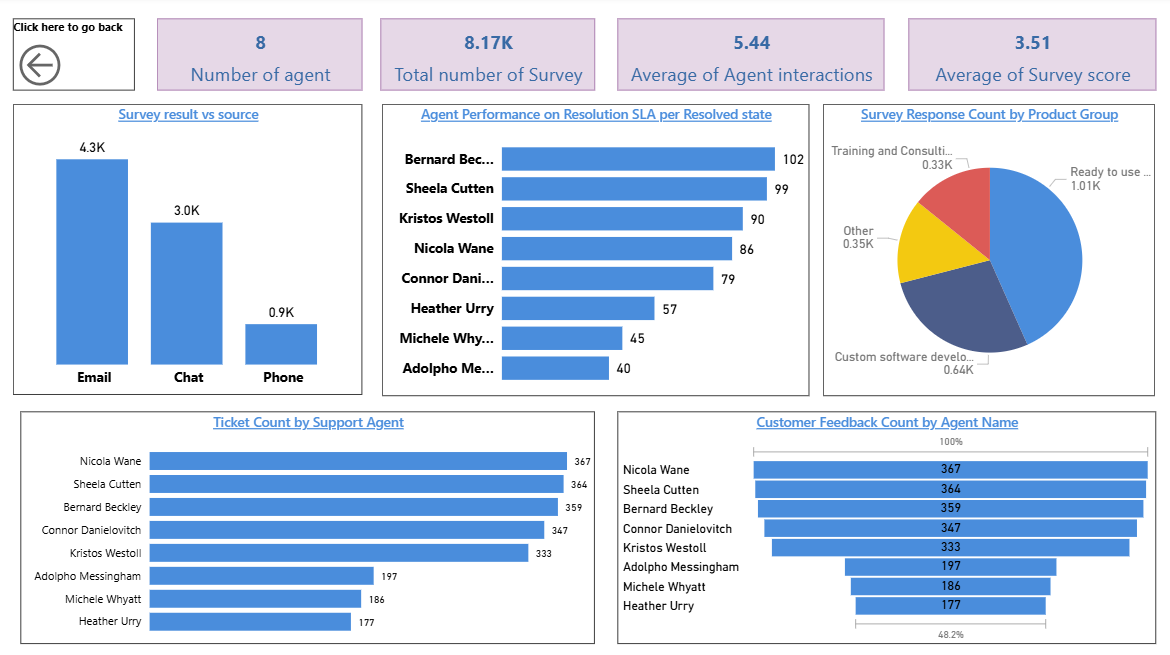

The dashboard page shown, as its layout file describes it:
{"tool":"powerbi","page":{"name":"Agent Performance","canvas":[1280,720],"ordinal":2},"visuals":[{"type":"barChart","title":"Ticket Count by Support Agent","fields":{"Category":["Technical support.Agent Name"],"Y":["CountNonNull(Technical support.Ticket ID)"]},"box":[27.7,450.6,623,252.1],"z":0},{"type":"funnel","title":"Customer Feedback Count by Agent Name","fields":{"Category":["Technical support.Agent Name"],"Y":["CountNonNull(Technical support.Survey results)"]},"box":[675,450.6,583.9,252.1],"z":1000},{"type":"barChart","title":"Agent Performance on Resolution SLA per Resolved state","fields":{"Category":["Technical support.Agent Name"],"Y":["Measure.SLA Met (Resolution)"],"Series":["Technical support.Status"]},"box":[420,116.7,463.3,316.7],"z":3000},{"type":"pieChart","title":"Survey Response Count by Product Group","fields":{"Category":["Technical support.Product group"],"Y":["CountNonNull(Technical support.Survey results)"]},"box":[898.3,116.7,360,316.7],"z":4000},{"type":"card","fields":{"Values":["Avg(Technical support.Survey results)"]},"box":[990.6,24.4,268.4,78.1],"z":5000},{"type":"card","title":"Avg resolution Time ","fields":{"Values":["Avg(Technical support.Agent interactions)"]},"box":[675,24.4,289.5,78.1],"z":6000},{"type":"card","title":"Avg resolution Time ","fields":{"Values":["Count(Technical support.Agent Name)"]},"box":[175.7,24.4,222.8,78.1],"z":7000},{"type":"card","title":"Avg resolution Time ","fields":{"Values":["Sum(Technical support.Survey results)"]},"box":[418,24.4,232.6,78.1],"z":8000},{"type":"actionButton","title":"Click here to go back","box":[19.5,24.4,131.8,78.1],"z":9000},{"type":"columnChart","title":"Survey result vs source","fields":{"Category":["Technical support.Source"],"Y":["Sum(Technical support.Survey results)"]},"box":[19.5,117.1,379,315.5],"z":9001}]}

Visuals, with their boxes in screenshot pixels (x1, y1, x2, y2), scaled from the page's 1280x720 canvas onto the 1170x655 screenshot:
"Ticket Count by Support Agent" barChart: [25, 410, 595, 639]
"Customer Feedback Count by Agent Name" funnel: [617, 410, 1151, 639]
"Agent Performance on Resolution SLA per Resolved state" barChart: [384, 106, 807, 394]
"Survey Response Count by Product Group" pieChart: [821, 106, 1150, 394]
card - Avg(Technical support.Survey results): [905, 22, 1151, 93]
"Avg resolution Time " card: [617, 22, 882, 93]
"Avg resolution Time " card: [161, 22, 364, 93]
"Avg resolution Time " card: [382, 22, 595, 93]
"Click here to go back" actionButton: [18, 22, 138, 93]
"Survey result vs source" columnChart: [18, 107, 364, 394]
